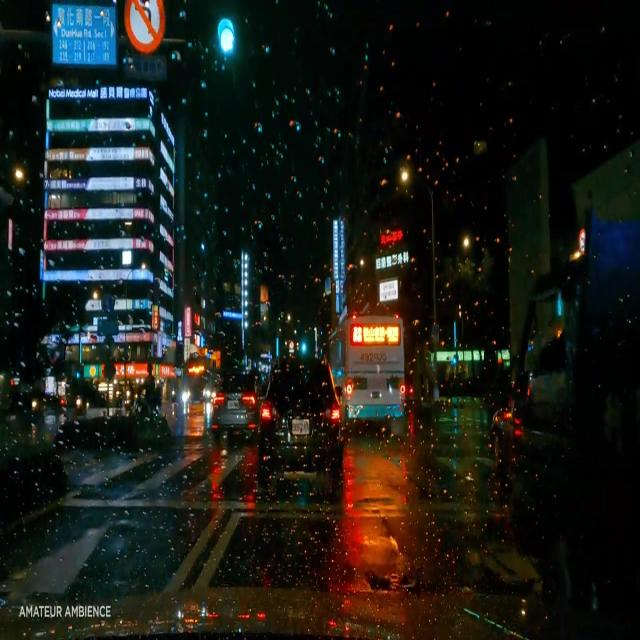Car: (256, 363, 343, 491), (210, 369, 257, 427)
